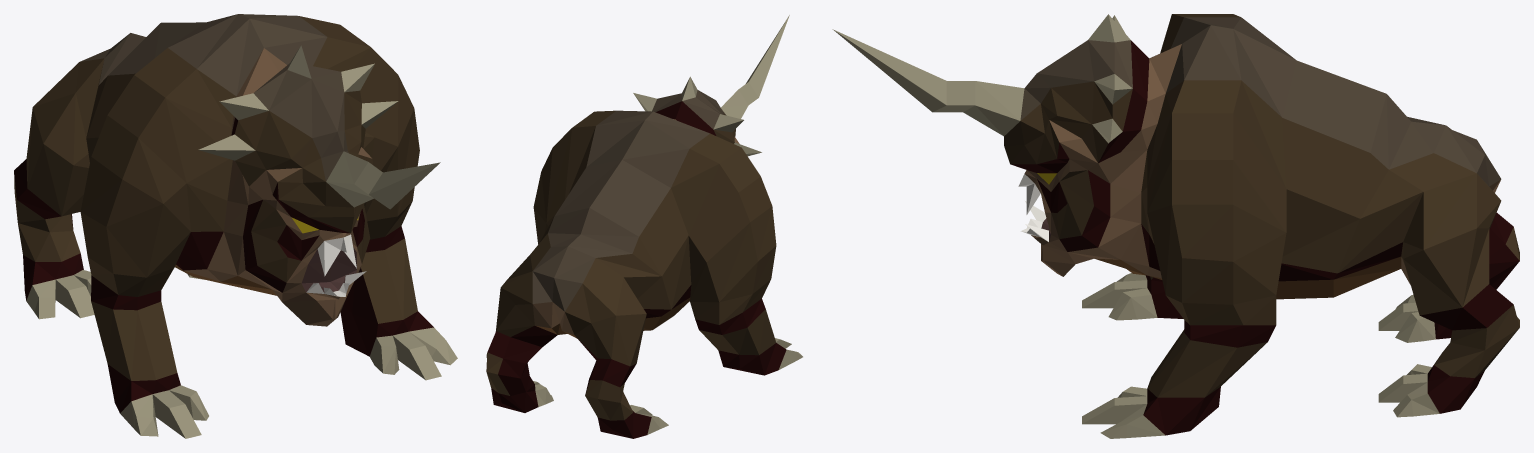
Rendered from dark_beast.glb.
3 views of the same model, side by side, from view 1: azimuth 30°, elevation 25°; view 2: azimuth 150°, elevation 25°; view 3: azimuth 270°, elevation 25° (orthographic). The views are drawn at different scales.
Bounding box in the file's own units: 177 × 188 × 336.
Materials: 1 (1 with a texture image).
